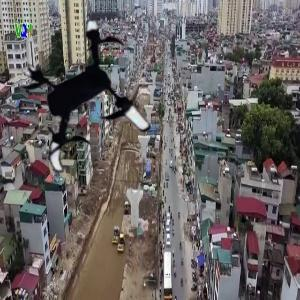drone: (10, 23, 170, 183)
